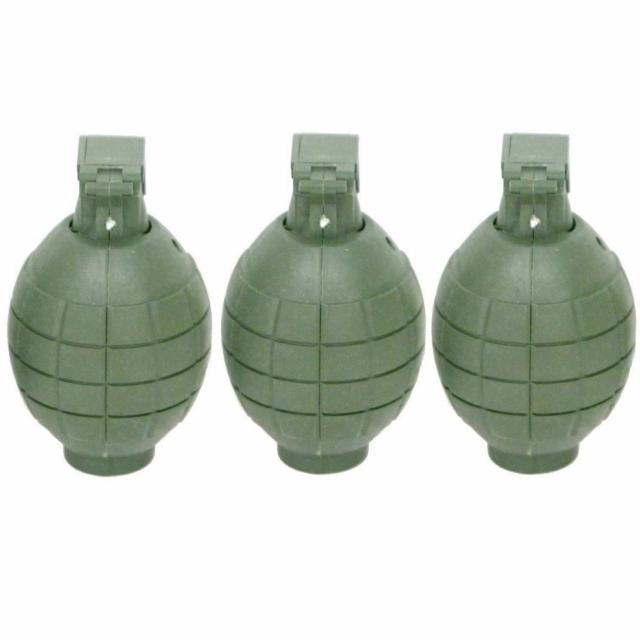grenade: (8, 137, 213, 477), (433, 136, 639, 474), (224, 135, 427, 475)
